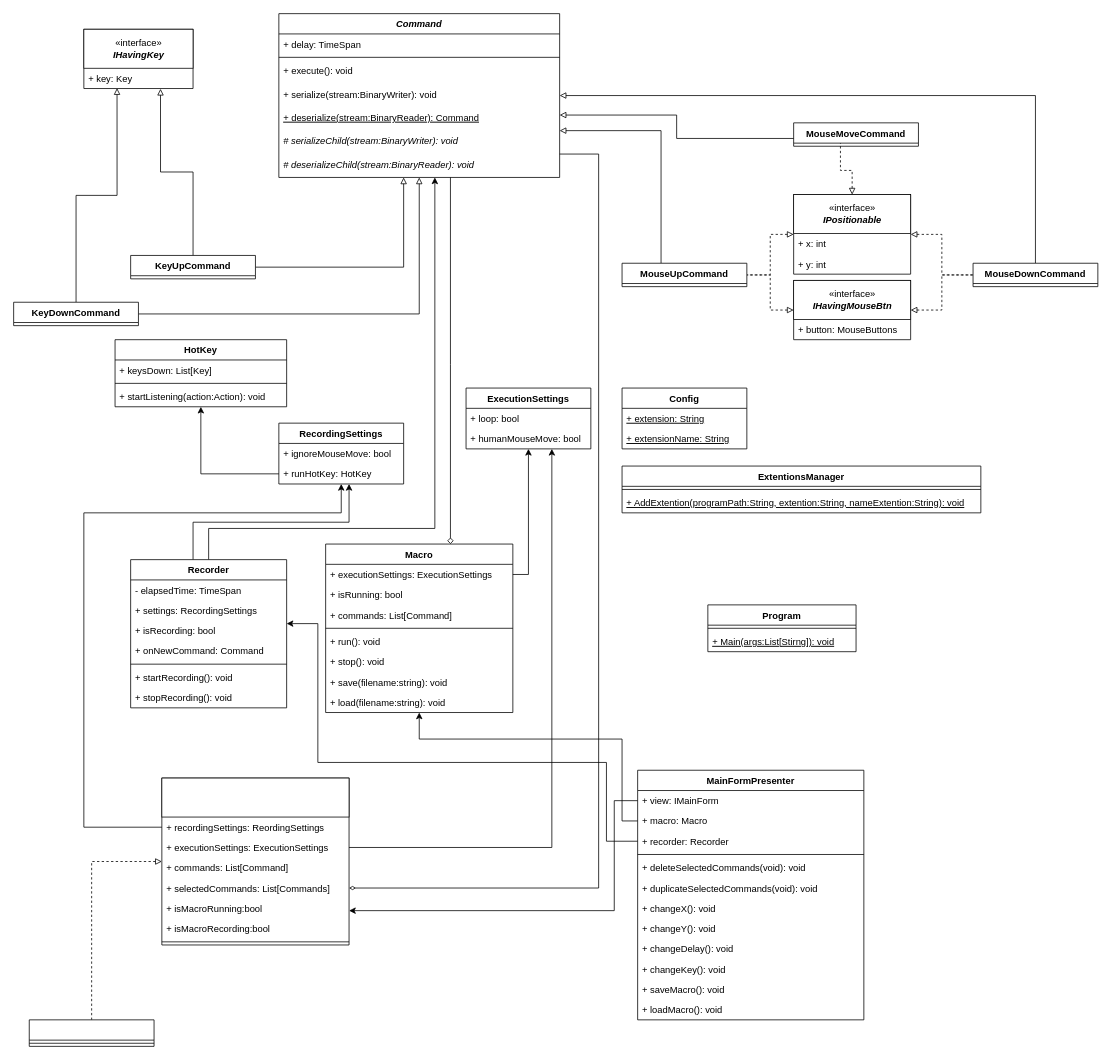
Image size: 1112x1060. Some labels were removed from this diagram. The shapes that lost their labels are listed below. From the top down, each one's centre as x and y in pixels, then its label:
At (x=255, y=797): "«interface» IMainForm".
At (x=91, y=1032): "MainForm".
